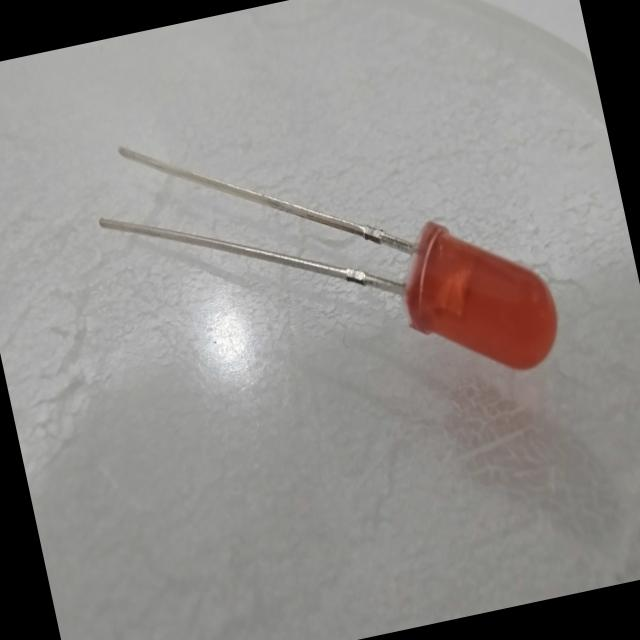red_led: (357, 180, 586, 422)
